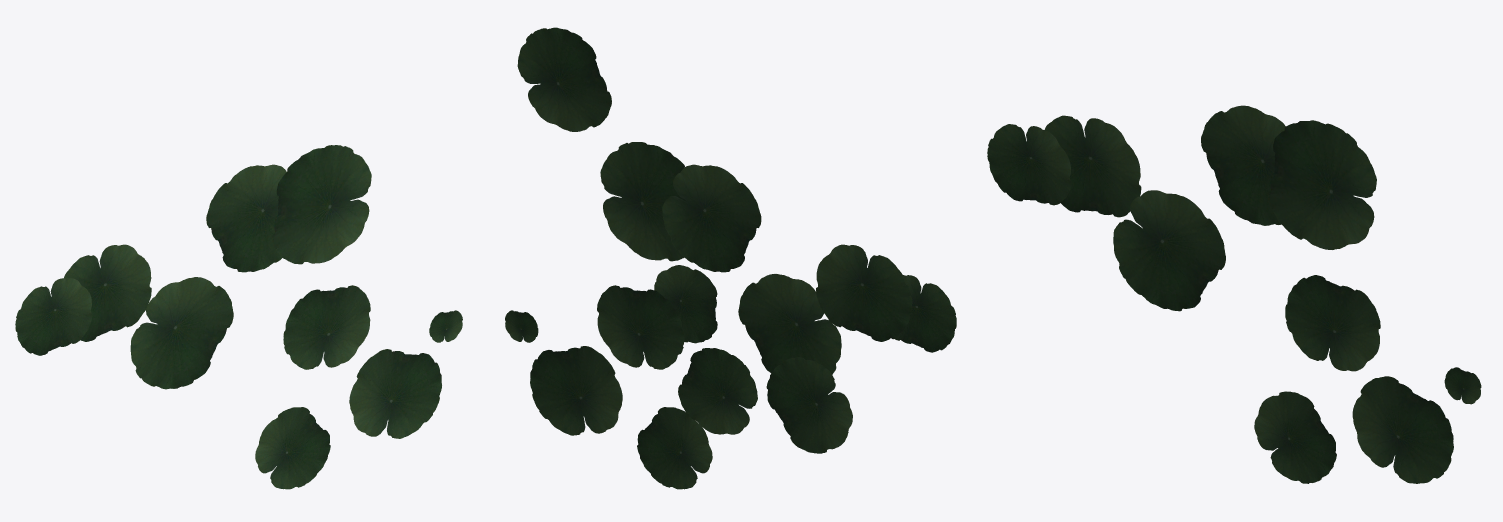
Rendered from TD_hehua_ye.FBX.
The picture shows the model from 3 angles, left to right: view 1: azimuth 30°, elevation 25°; view 2: azimuth 150°, elevation 25°; view 3: azimuth 330°, elevation 25°; orthographic projection. The views are drawn at different scales.
Visible parts, largest first — view 1: Mesh_388; view 2: Mesh_388; view 3: Mesh_388.
Boxes of the visible parts, left/top/right/bottom form: Mesh_388: left=15, top=145, right=462, bottom=489; Mesh_388: left=505, top=27, right=956, bottom=489; Mesh_388: left=987, top=105, right=1481, bottom=483.
Bounding box in the file's own units: 654 × 638 × 5.44.
Materials: 1 (1 with a texture image).
